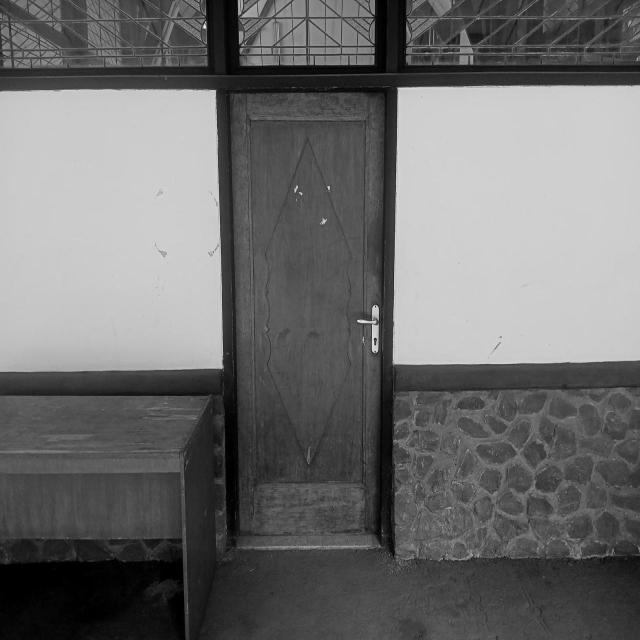door: (225, 84, 392, 540)
